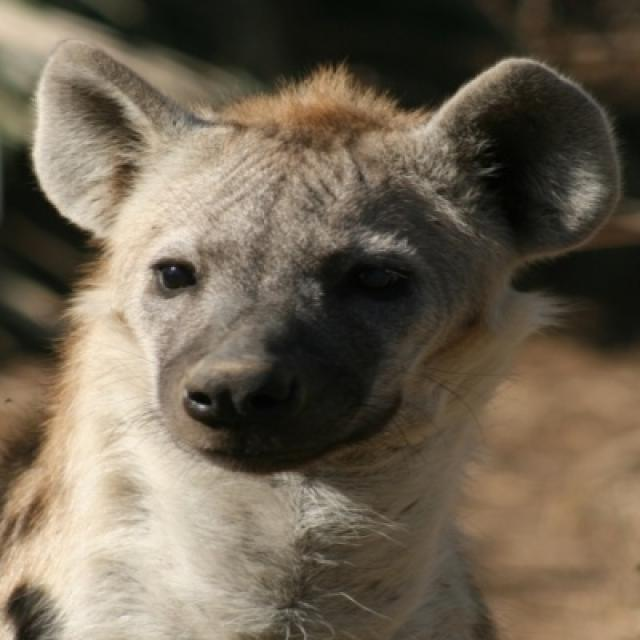hyena: (24, 42, 618, 638)
